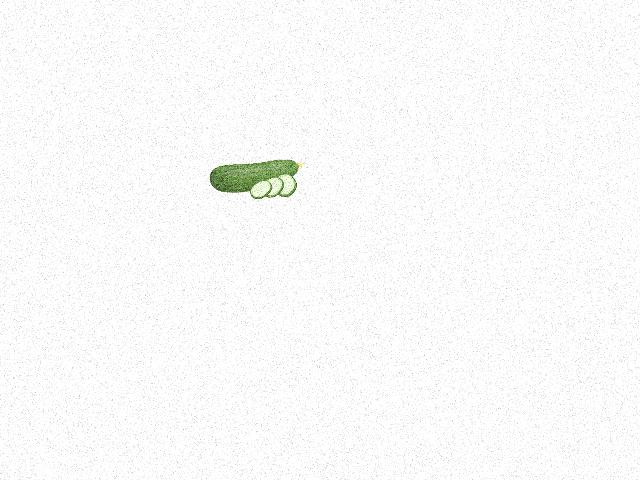cucumber: (208, 160, 303, 193)
